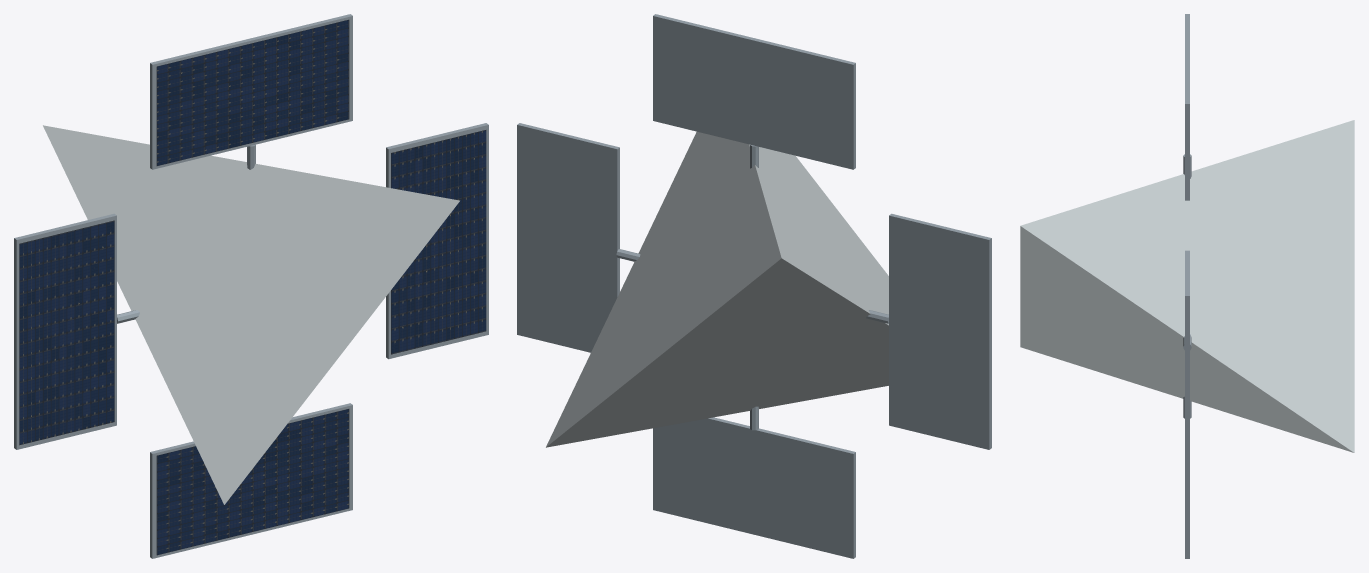
The model's file is ref-shtil-27002.glb.
The picture shows the model from 3 angles, left to right: view 1: azimuth 30°, elevation 25°; view 2: azimuth 150°, elevation 25°; view 3: azimuth 270°, elevation 25°; orthographic projection. The views are drawn at different scales.
Visible parts, largest first — view 1: Photovoltaic laminates (×4), Spacecraft body, Array frame (×4); view 2: Array frame (×4), Spacecraft body; view 3: Spacecraft body, Array frame (×2).
Boxes of the visible parts, x1,y1,x2,y2 form: Photovoltaic laminates (×4): [19, 19, 486, 555]; Spacecraft body: [43, 125, 459, 504]; Array frame (×4): [14, 14, 488, 558]; Array frame (×4): [517, 14, 991, 558]; Spacecraft body: [546, 131, 888, 447]; Spacecraft body: [1020, 120, 1354, 452]; Array frame (×2): [1185, 14, 1189, 489].
Bounding box in the file's own units: 1.2 × 1.2 × 0.8.
Materials: 3 (1 with a texture image).
